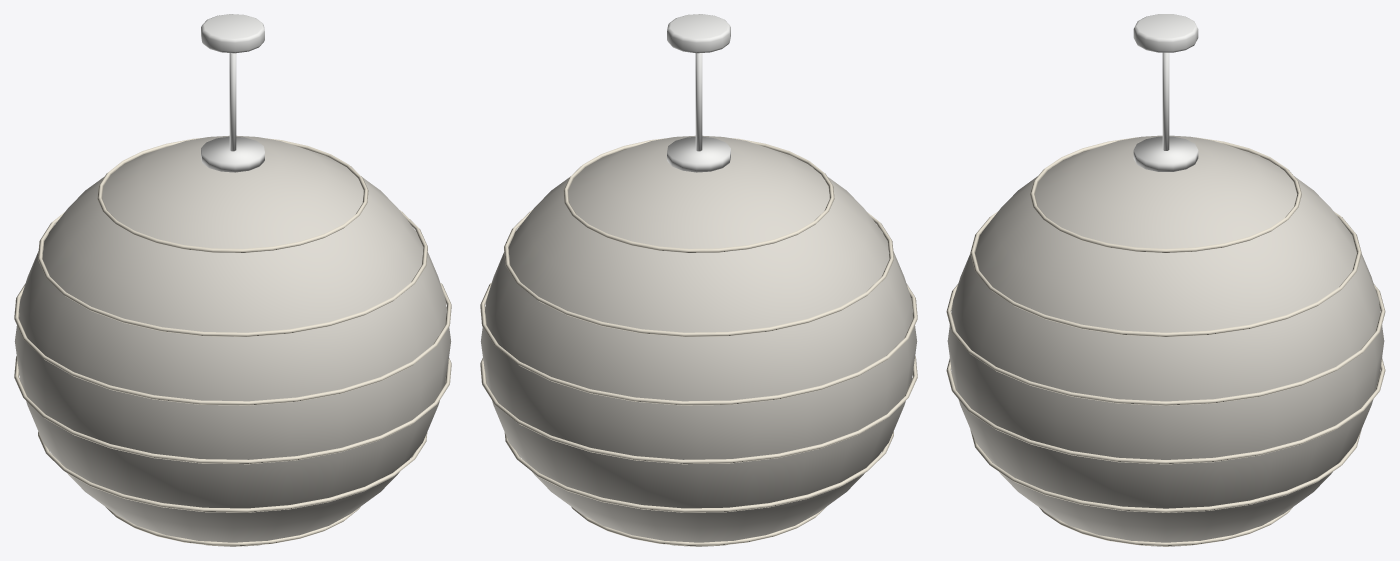
File: paperLantern.glb
3 views of the same model, side by side, from view 1: azimuth 30°, elevation 25°; view 2: azimuth 150°, elevation 25°; view 3: azimuth 270°, elevation 25° (orthographic).
Parts seen in each view (by area): view 1: paperLantern; view 2: paperLantern; view 3: paperLantern.
Part boxes in pixels (<box>): paperLantern: <box>14,14,451,546</box>; paperLantern: <box>480,14,917,546</box>; paperLantern: <box>946,14,1385,546</box>.
Bounding box in the file's own units: 0.5431 × 0.6811 × 0.5431.
